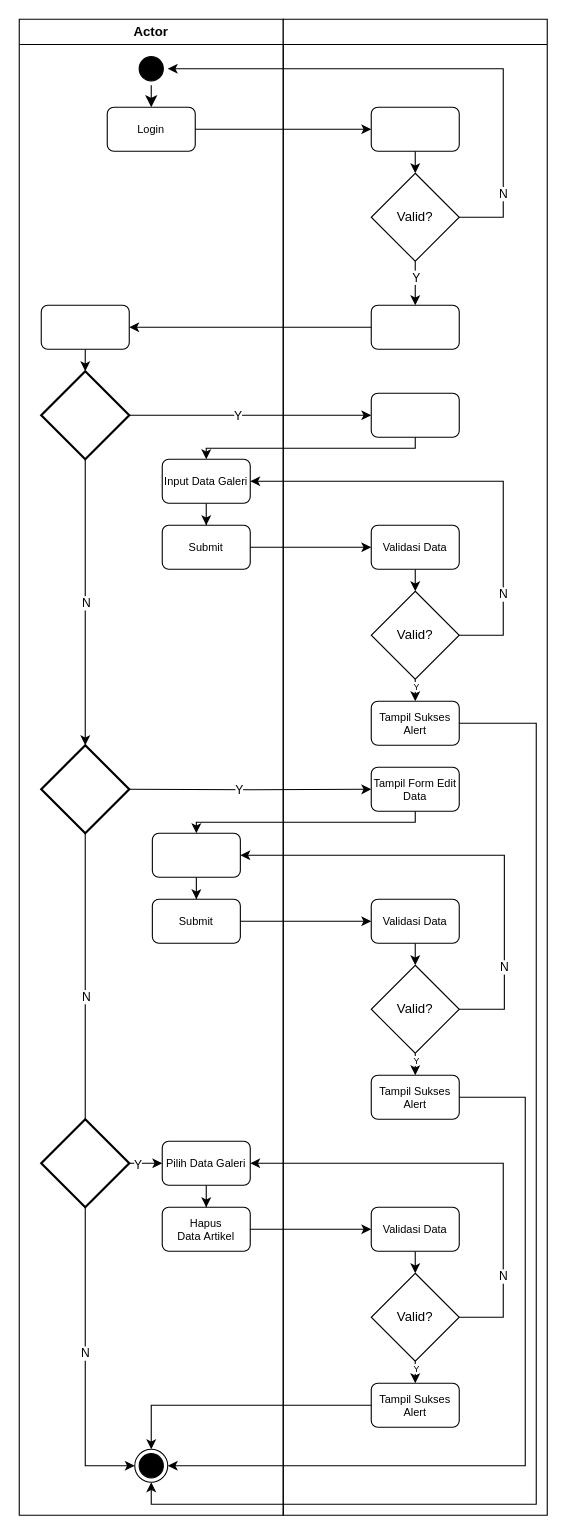
The diagram is 567 pixels wide and 1535 high, and some of its shapes have lost their labels. The box of each missing label's shape, as (x1, y1, x2, y2) in pixels:
Delete Galeri: (40, 1118, 130, 1208)
Edit Data Galeri: (151, 832, 240, 877)
Edit Galeri: (40, 744, 130, 834)
Pilih Menu Galeri: (40, 304, 129, 349)
Sistem: (282, 18, 547, 1515)
Tambah Galeri: (40, 370, 130, 460)
Tampil Dashboard: (370, 304, 459, 349)
Tampil Form Input Data: (370, 392, 459, 437)
Verifikasi Data: (370, 106, 459, 151)
